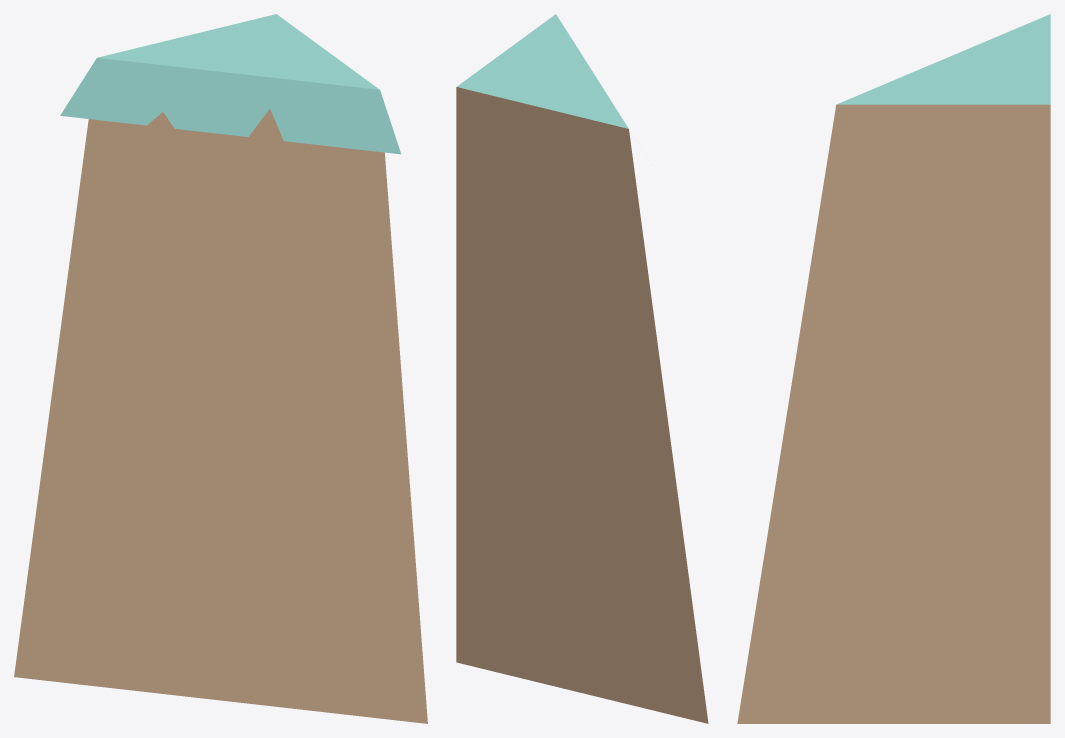
File: cliffBrown_cornerTop.glb
3 renders of one model, left to right at view 1: azimuth 30°, elevation 25°; view 2: azimuth 150°, elevation 25°; view 3: azimuth 270°, elevation 25°, orthographic. The views are drawn at different scales.
Visible parts, largest first — view 1: cliffBrown_cornerTop; view 2: cliffBrown_cornerTop; view 3: cliffBrown_cornerTop.
Part boxes in pixels (<box>): cliffBrown_cornerTop: <box>14,14,427,723</box>; cliffBrown_cornerTop: <box>456,14,708,723</box>; cliffBrown_cornerTop: <box>737,14,1050,723</box>.
Bounding box in the file's own units: 0.4584 × 1 × 0.4584.
